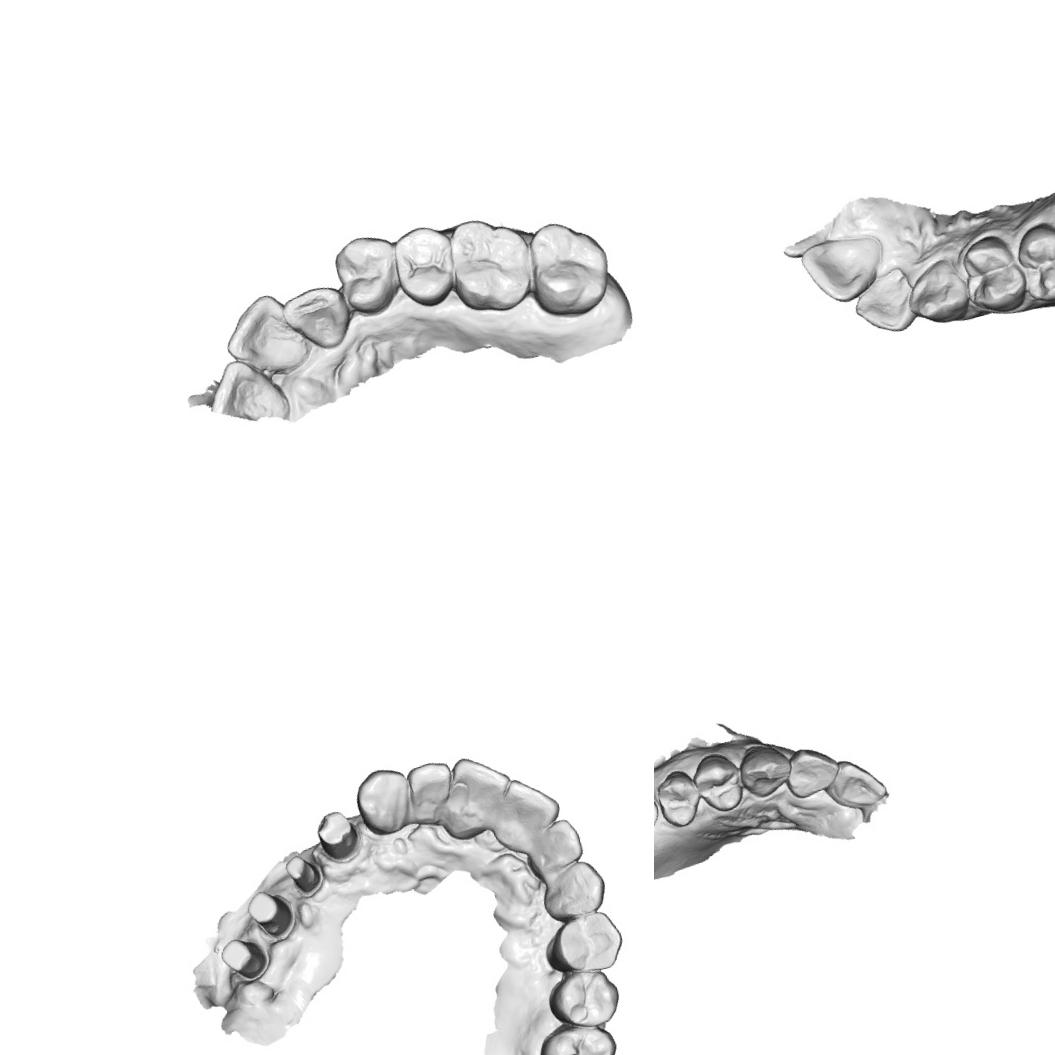abutment: (241, 882, 300, 945), (308, 804, 366, 866), (216, 930, 272, 986), (279, 848, 327, 902)
canine: (275, 278, 358, 360), (897, 251, 980, 333), (348, 761, 420, 841), (534, 855, 612, 925), (732, 736, 798, 802)
incisor: (214, 286, 313, 387), (196, 348, 294, 438), (796, 226, 893, 310), (439, 744, 522, 834), (488, 768, 566, 848), (847, 269, 922, 342), (818, 749, 891, 816), (522, 814, 588, 879), (778, 739, 846, 801), (399, 755, 460, 823)
molar: (438, 205, 542, 322), (517, 208, 619, 324), (531, 1013, 627, 1055)
premolar: (384, 218, 466, 316), (324, 226, 407, 321), (954, 229, 1031, 319), (539, 908, 629, 982), (540, 962, 625, 1036), (688, 746, 749, 818), (1010, 215, 1055, 308), (654, 764, 707, 831)
